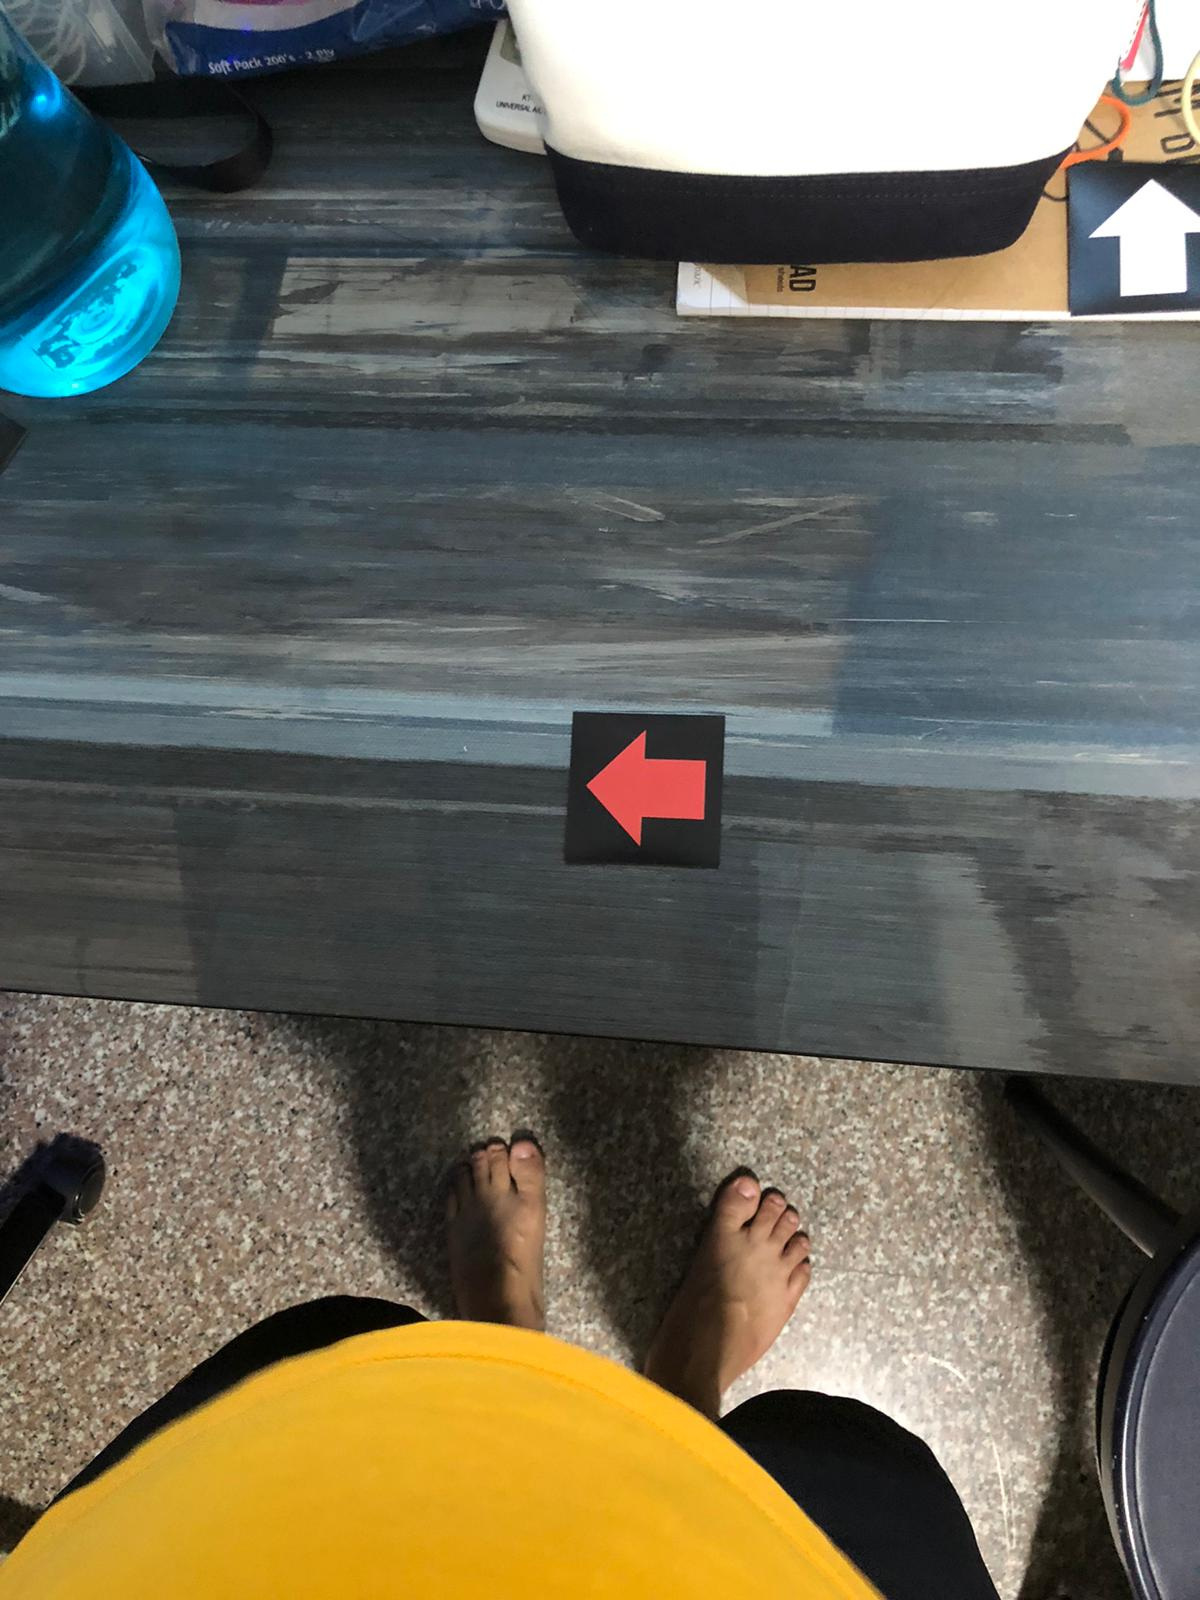Left Arrow: (570, 706, 722, 867)
